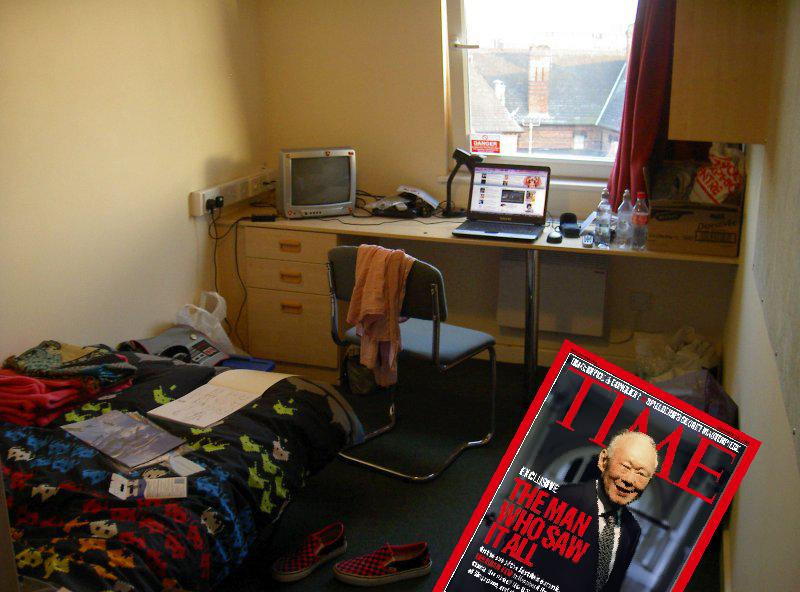times: (428, 339, 766, 592)
